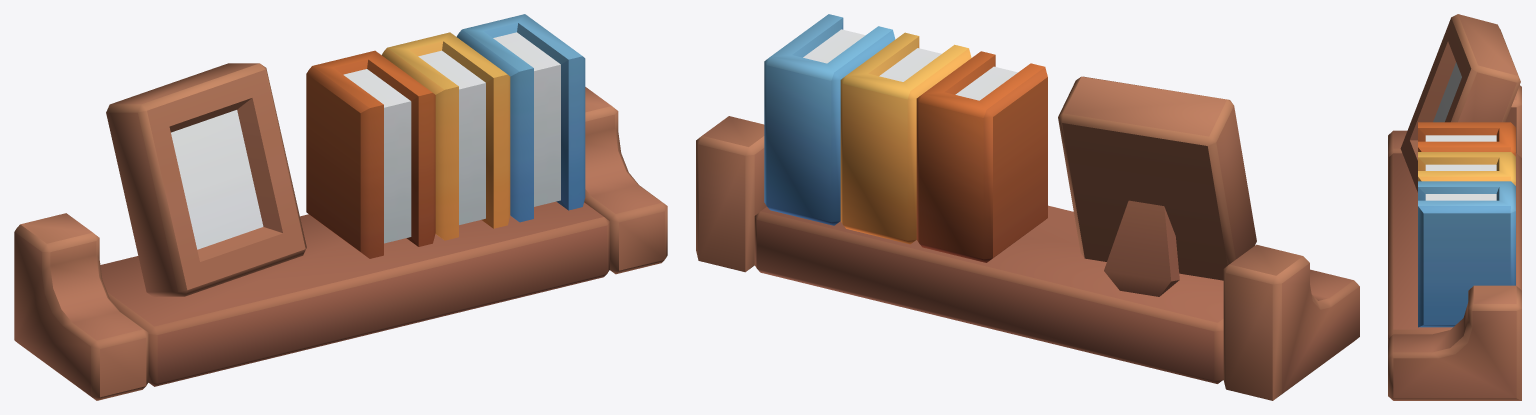
Rendered from kkf.shelf_b_large_decorated.glb.
The picture shows the model from 3 angles, left to right: view 1: azimuth 30°, elevation 25°; view 2: azimuth 150°, elevation 25°; view 3: azimuth 270°, elevation 25°; orthographic projection. The views are drawn at different scales.
Parts seen in each view (by area): view 1: shelf_B_large_decorated; view 2: shelf_B_large_decorated; view 3: shelf_B_large_decorated.
Part boxes in pixels (x1,y1,x2,y2): shelf_B_large_decorated: [14, 14, 667, 400]; shelf_B_large_decorated: [696, 14, 1359, 400]; shelf_B_large_decorated: [1388, 14, 1521, 400].
Size of the model in its own units: 1.43 by 0.5848 by 0.3578.
1 material, 1 textured.
